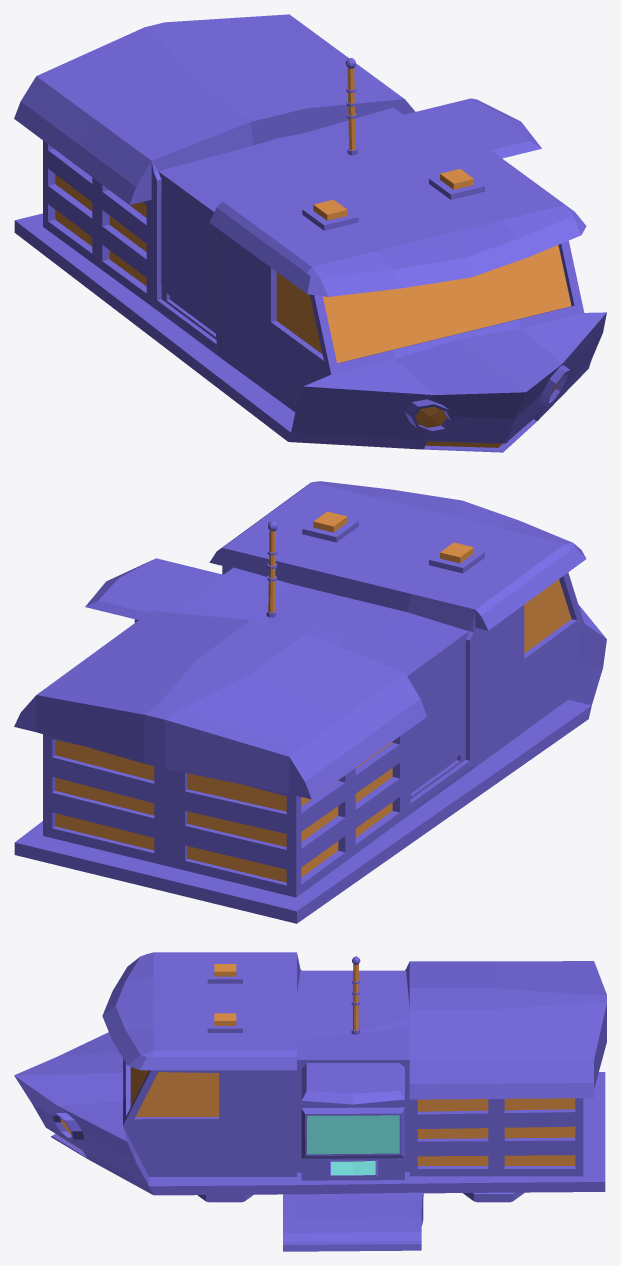
File: Train_FrontCar.fbx
3 renders of one model, top to bottom at view 1: azimuth 30°, elevation 25°; view 2: azimuth 150°, elevation 25°; view 3: azimuth 270°, elevation 25°, orthographic. The views are drawn at different scales.
Parts seen in each view (by area): view 1: Train_FrontCar; view 2: Train_FrontCar; view 3: Train_FrontCar.
Part boxes in pixels (x1=…): Train_FrontCar: x1=14, y1=14, x2=606, y2=452; Train_FrontCar: x1=14, y1=481, x2=606, y2=923; Train_FrontCar: x1=14, y1=952, x2=606, y2=1251.
Bounding box in the file's own units: 2520 × 1763 × 4270.
